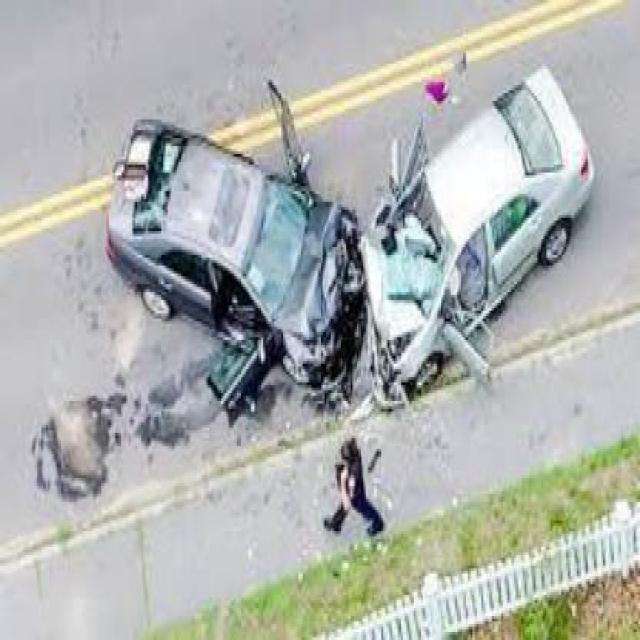accident: (100, 56, 598, 401)
